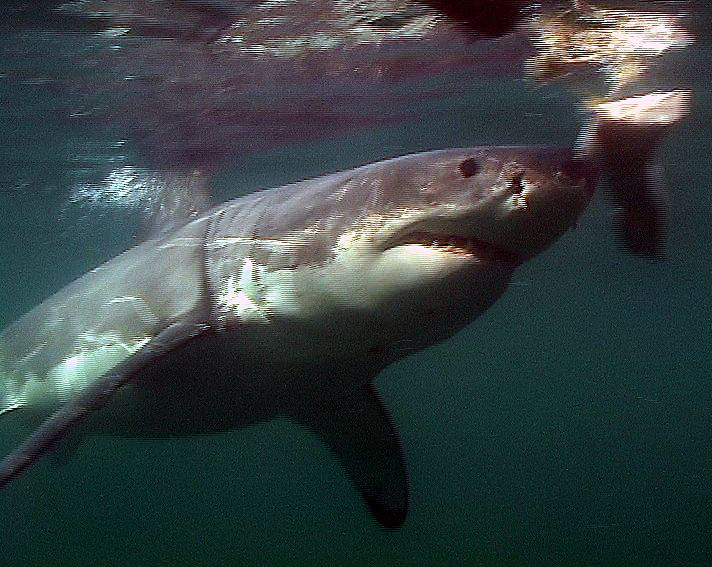Carcharodon_carcharias: (6, 120, 605, 538)
